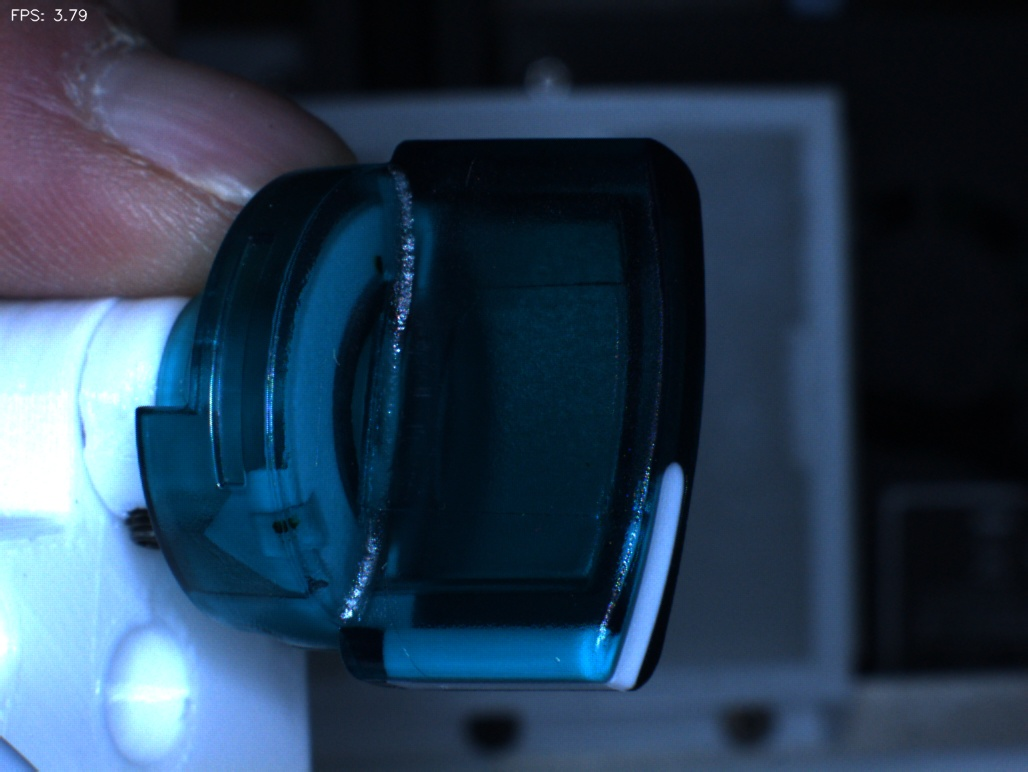PointNoir: (346, 227, 410, 295)
